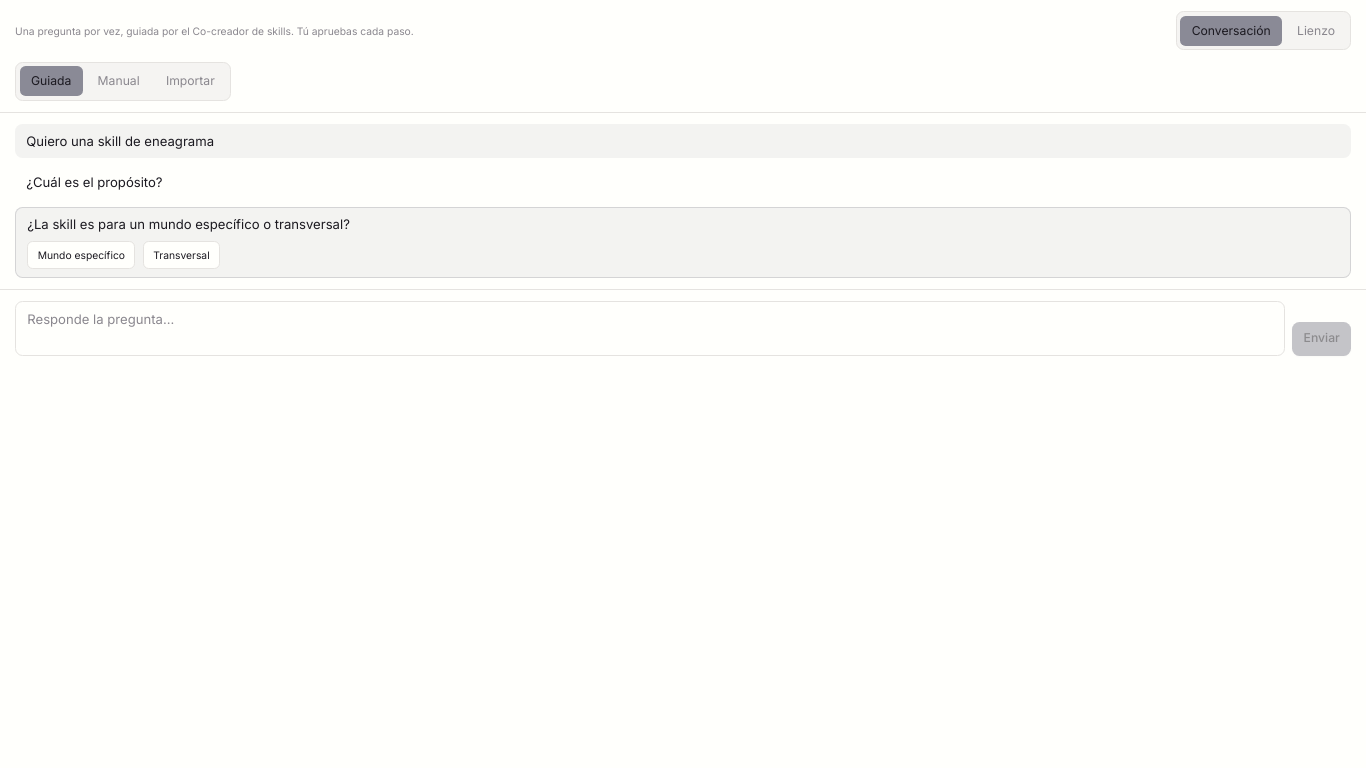
Test: CoCreationPanel — authoring sub-modes (REQ-CC-1) › preserves the guided canvas view across guided→manual→guided (SC-CC-1.4)
The width and height of the screenshot is (1366, 768).
// Switch the guided surface to the canvas (TW12).
Click the tab "Lienzo": (1316, 31) [1286,16,1346,46]
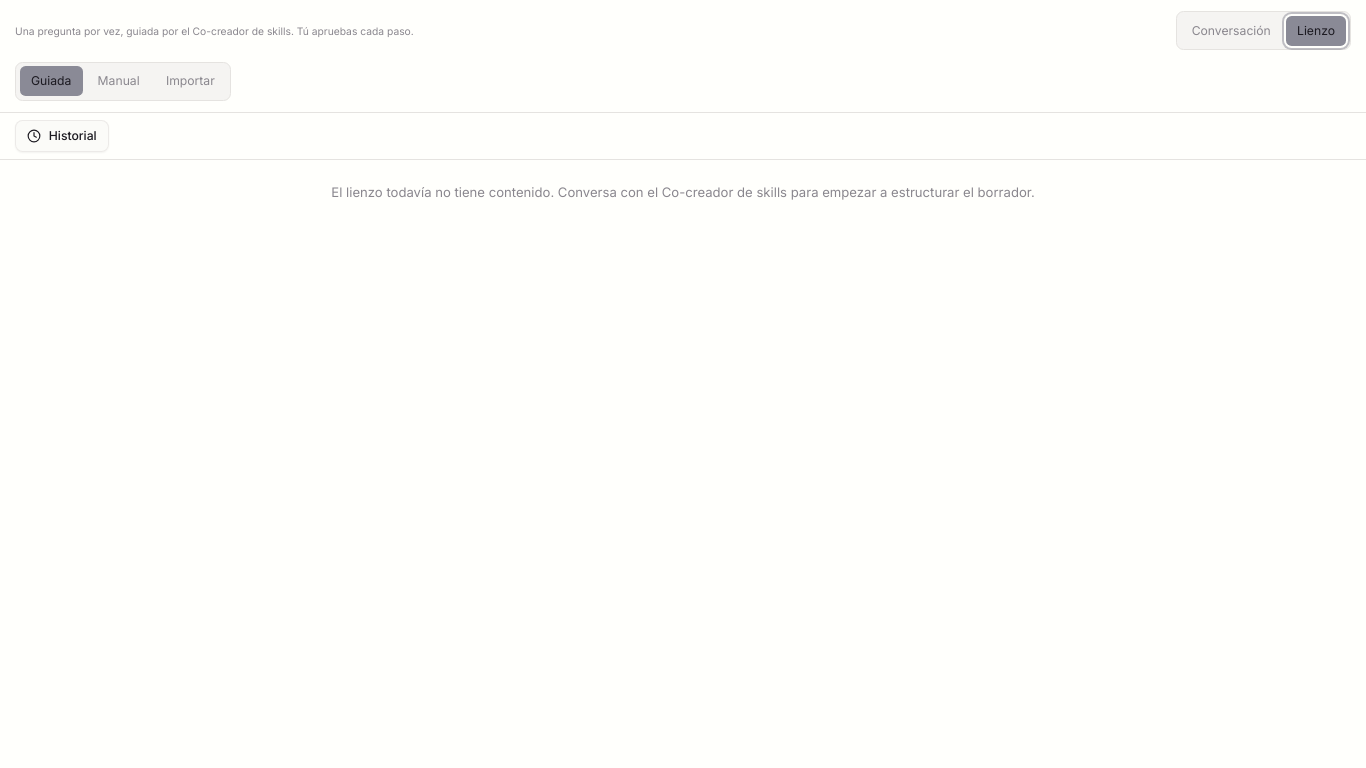
expect the button "Historial" is shown: met, box [15,120,109,152]
Click the tab "Manual": (119, 81) [86,66,151,96]
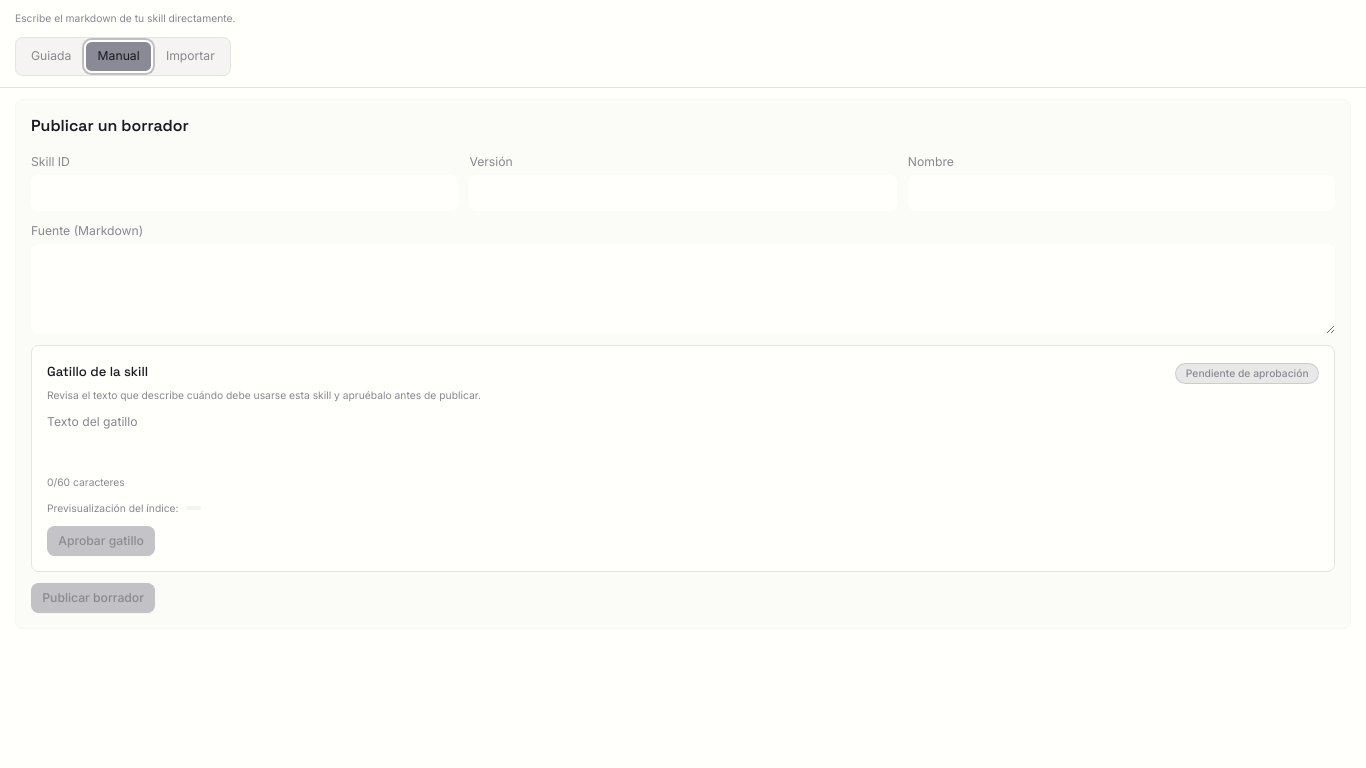
expect the heading "Publicar un borrador" is shown: met, box [31,116,189,136]
Click the tab "Guiada": (51, 56) [20,42,83,71]
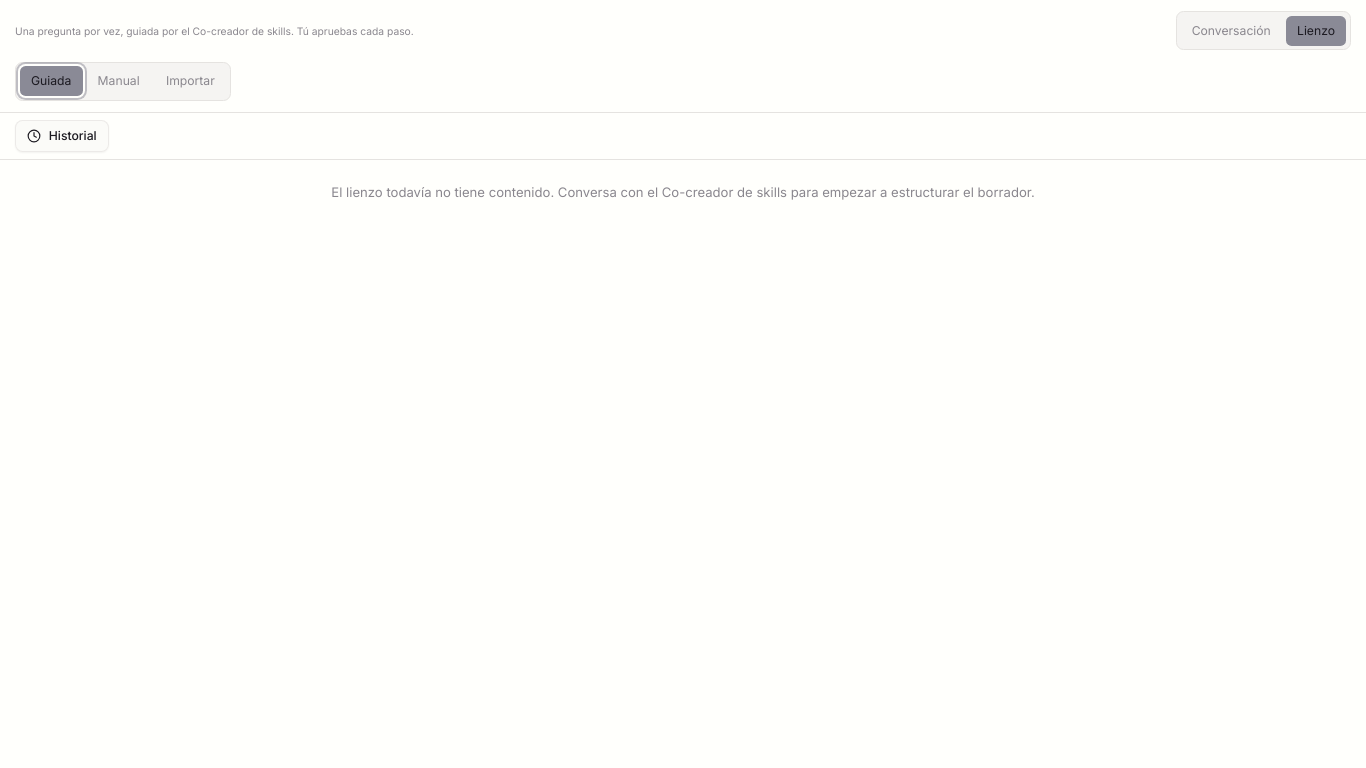
expect the button "Historial" is shown: met, box [15,120,109,152]
